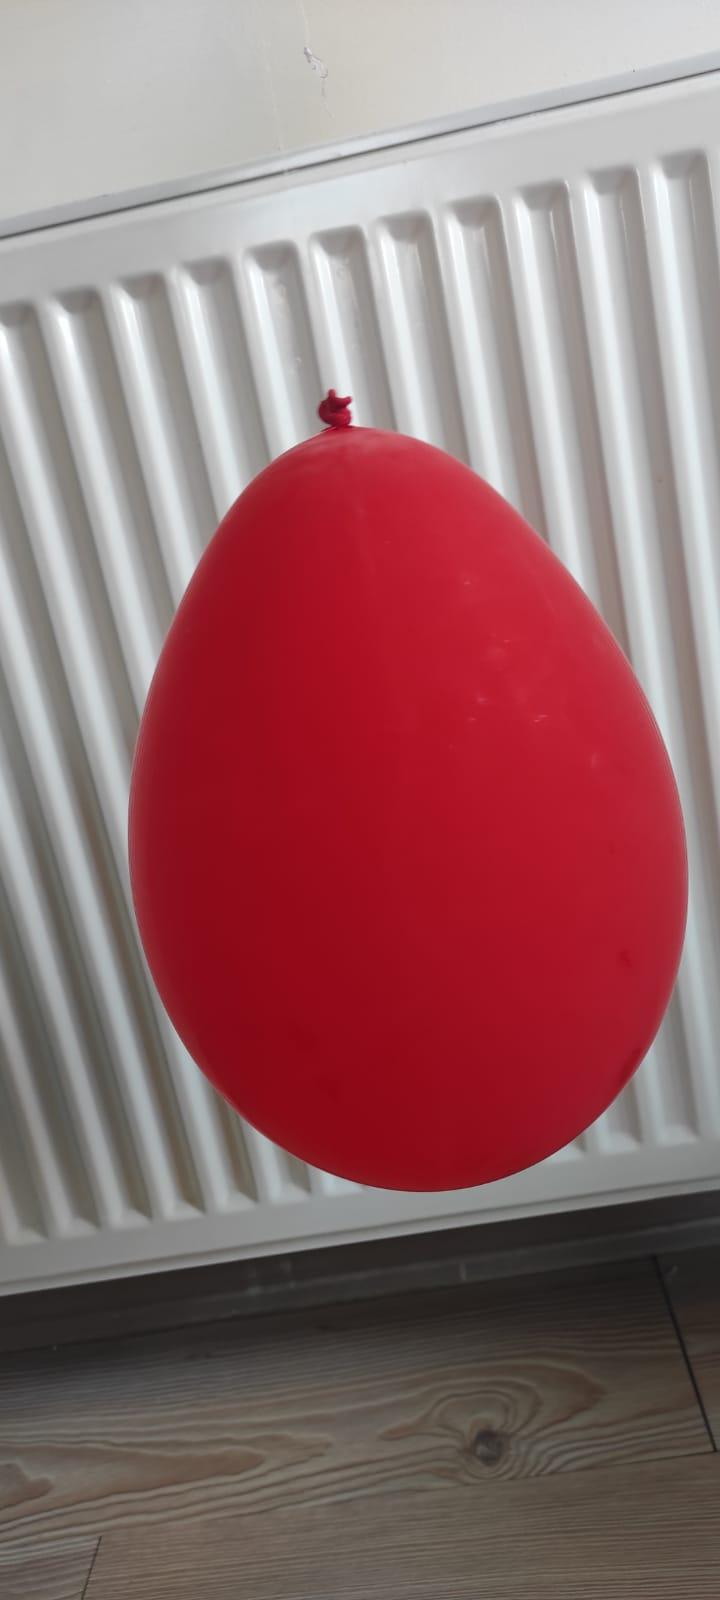red: (127, 384, 692, 1198)
